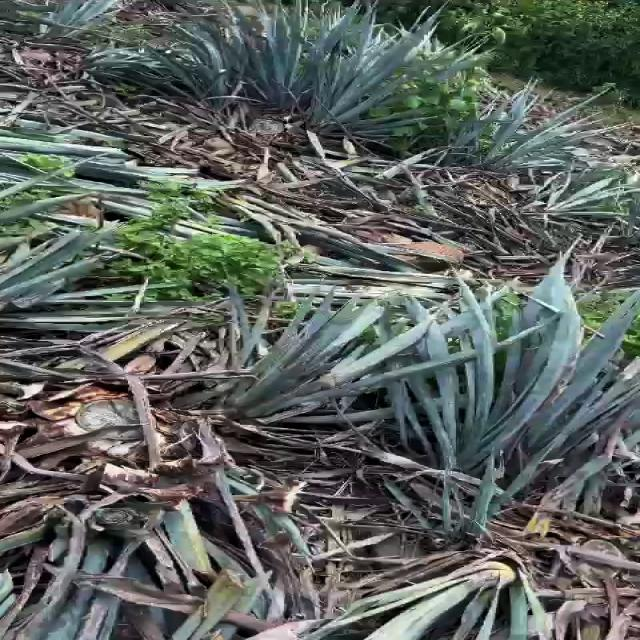agave: (390, 250, 640, 517), (182, 261, 422, 459)
